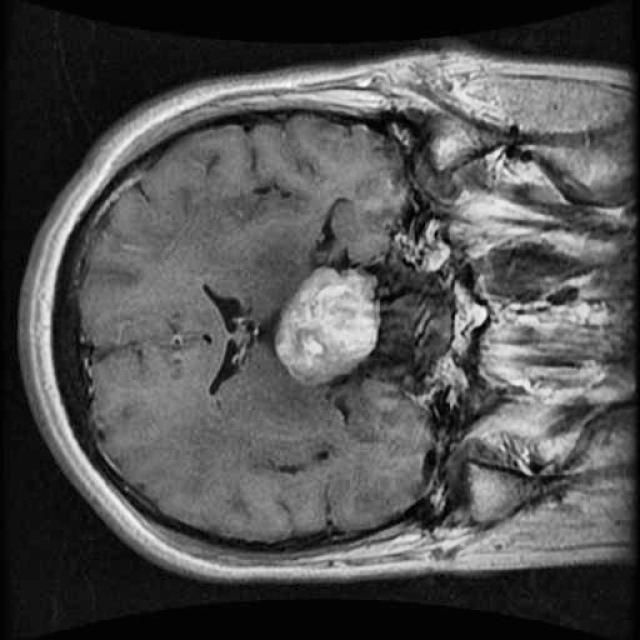Tumor: (256, 241, 399, 399)
